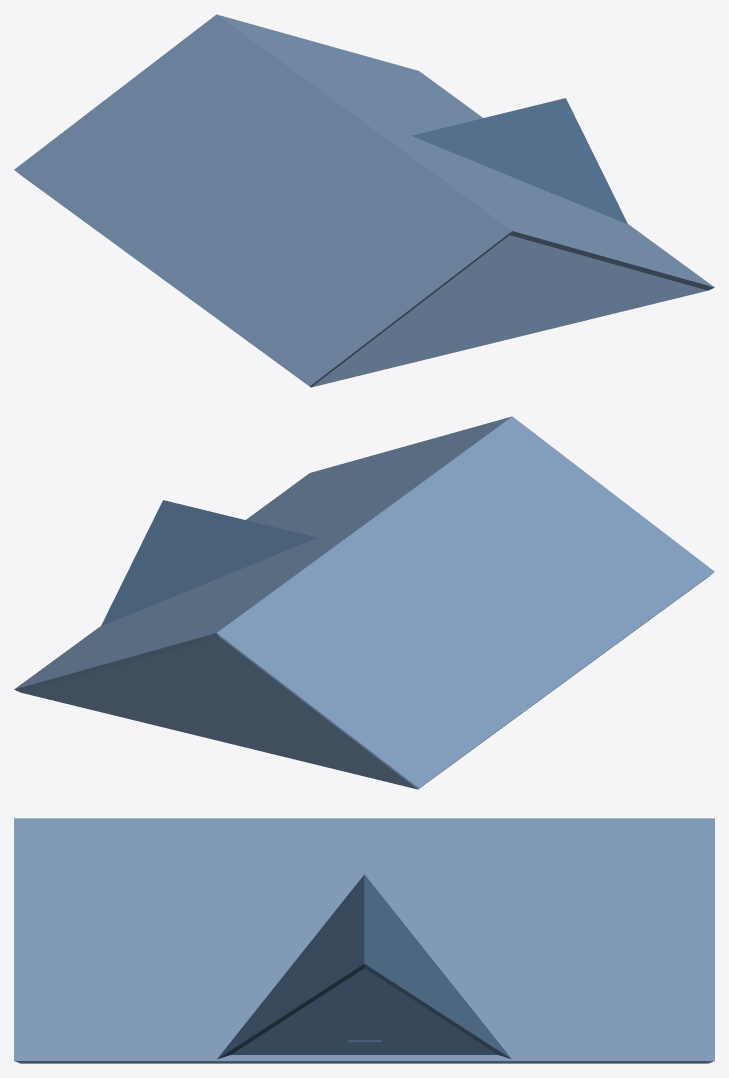
The model's file is Roof.fbx.
3 views of the same model, one above another, from view 1: azimuth 30°, elevation 25°; view 2: azimuth 150°, elevation 25°; view 3: azimuth 270°, elevation 25° (orthographic). The views are drawn at different scales.
Visible parts, largest first — view 1: pCube8; view 2: pCube8; view 3: pCube8.
Part boxes in pixels (left/top/right/bottom): pCube8: left=14, top=14, right=714, bottom=387; pCube8: left=14, top=416, right=714, bottom=789; pCube8: left=14, top=818, right=714, bottom=1063.
Size of the model in its own units: 49.96 by 12.99 by 63.21.
